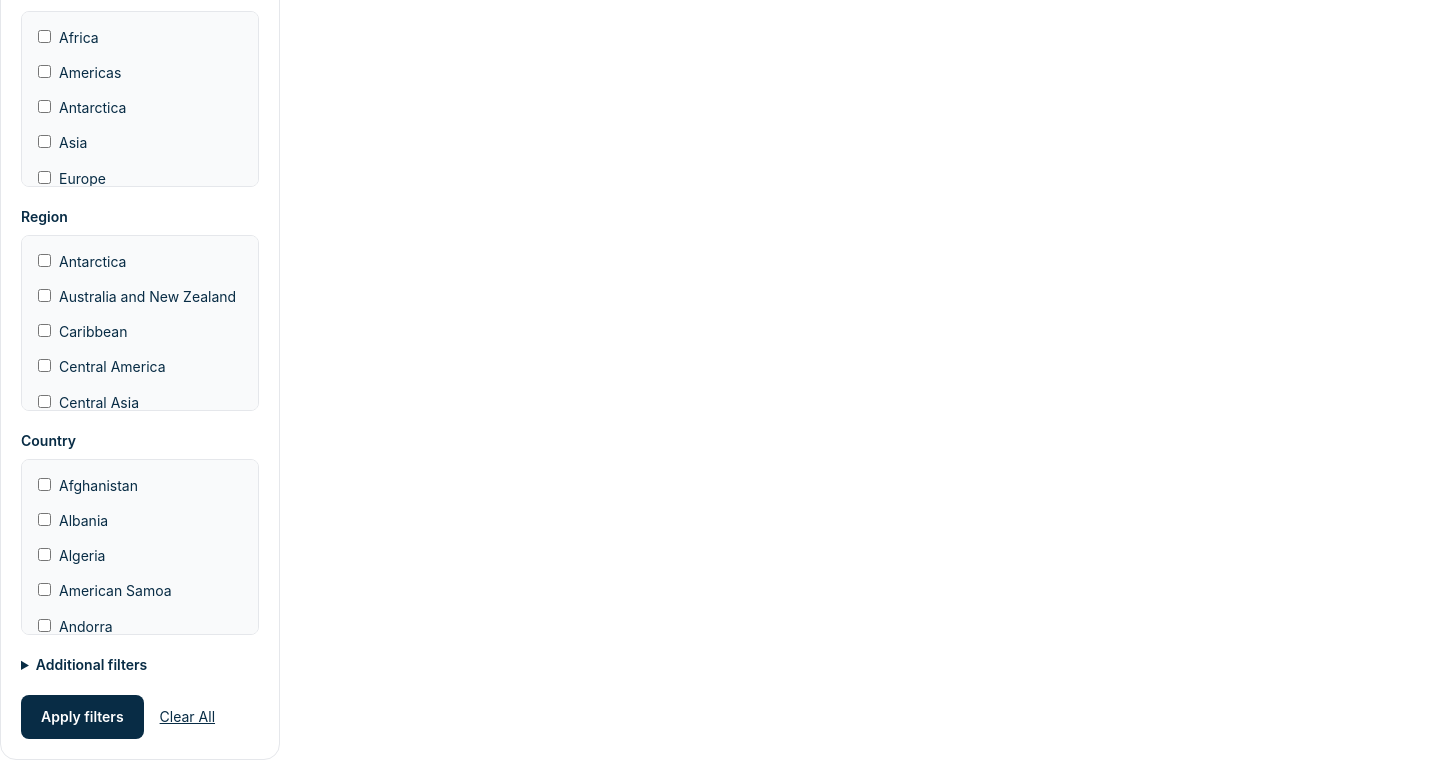
Test: cancels and ignores an older response only after a later submission
This screenshot has width=1440, height=760.
(page scrolled)
Click the heading "Additional filters" at (92, 664), box [36, 656, 147, 673]
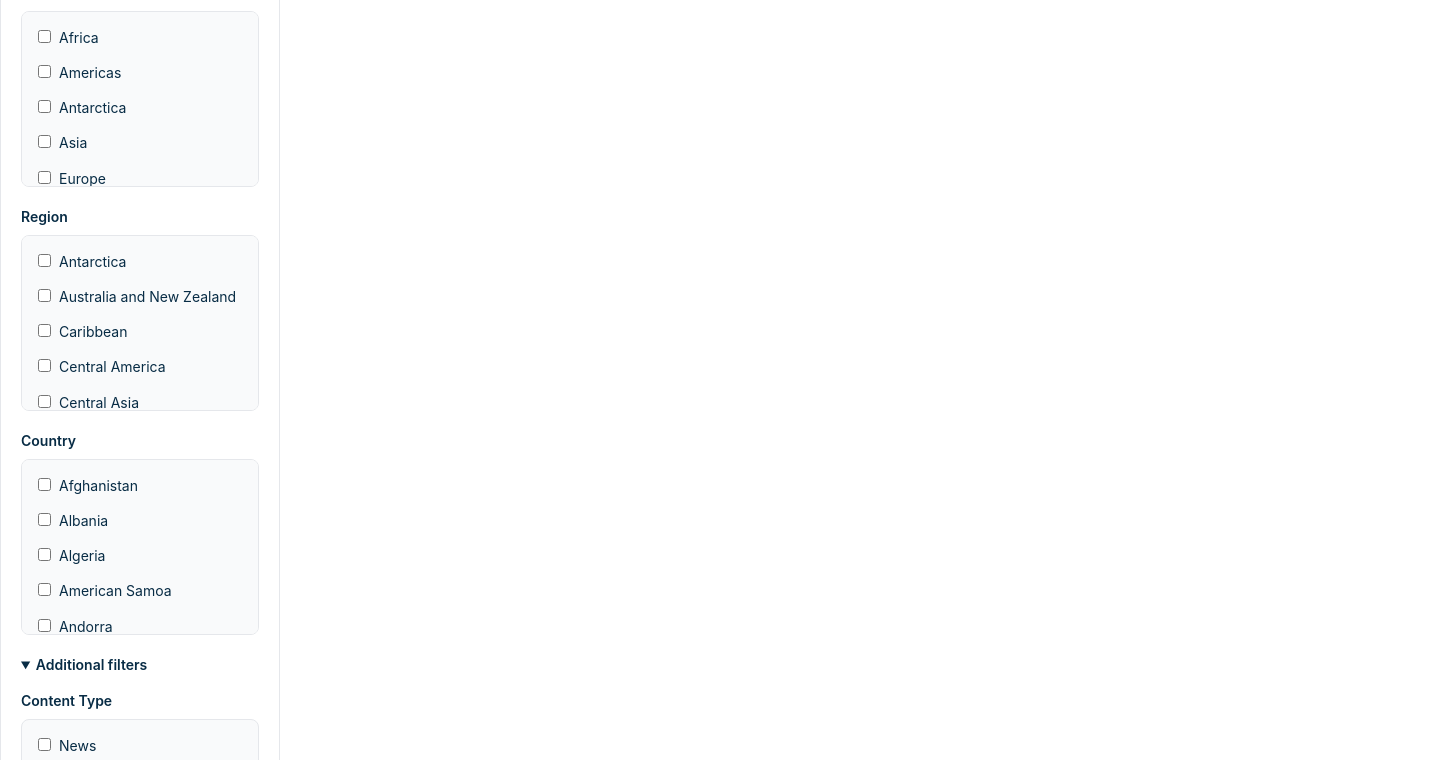
Click the checkbox labelled "News" at (44, 744), box [38, 738, 51, 751]
(page scrolled)
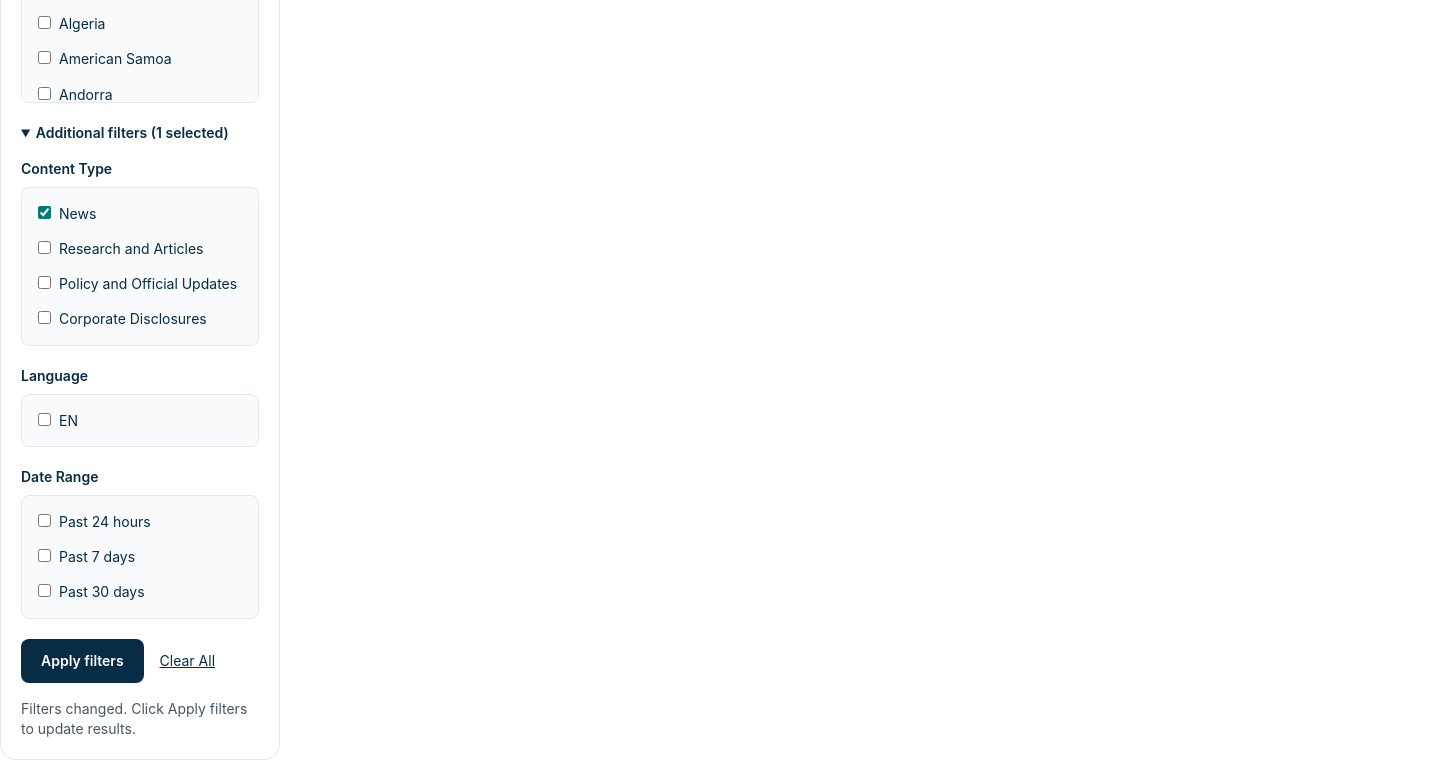
Click the button "Apply filters" at (82, 661), box [21, 639, 144, 683]
(page scrolled)
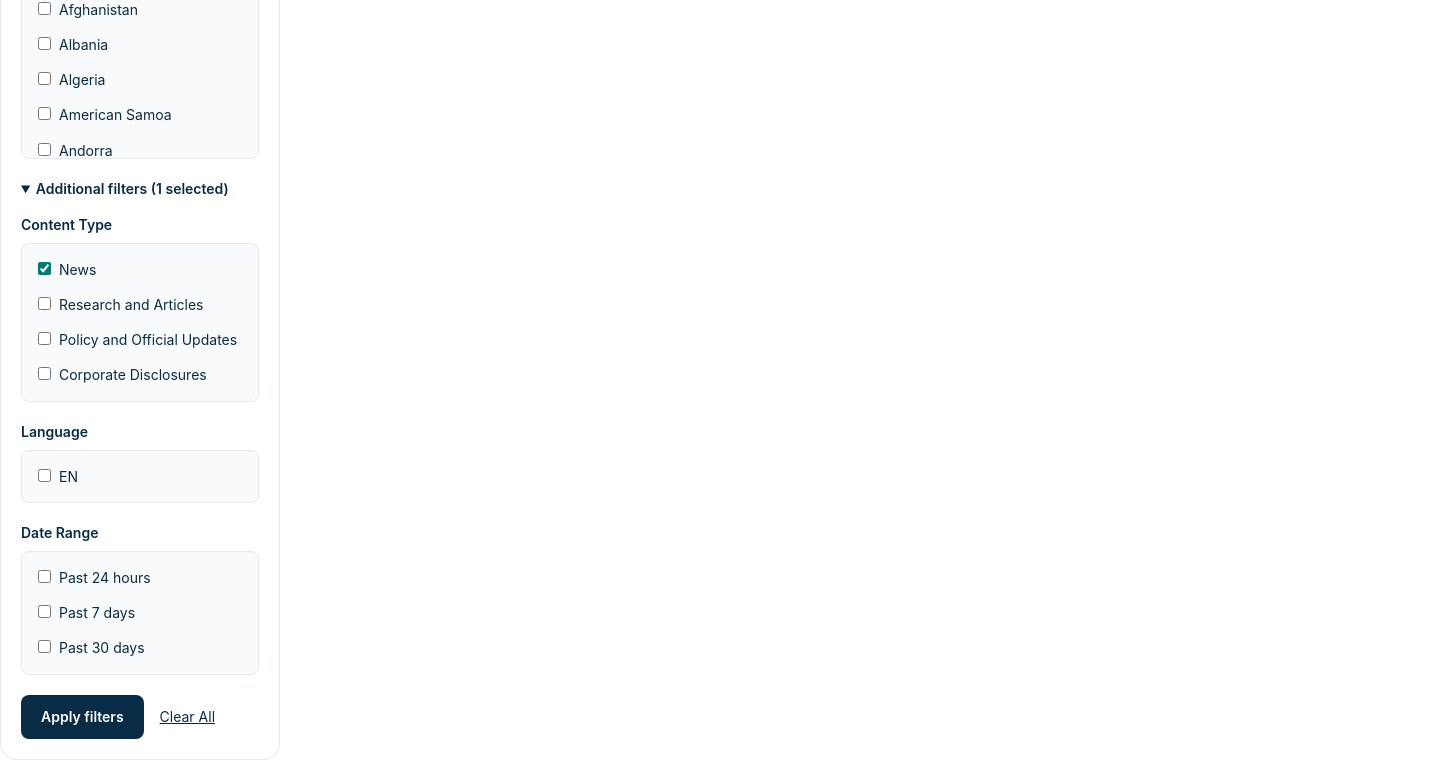
Click the checkbox labelled "EN" at (44, 475), box [38, 469, 51, 482]
Wait 1000 ms
(page scrolled)
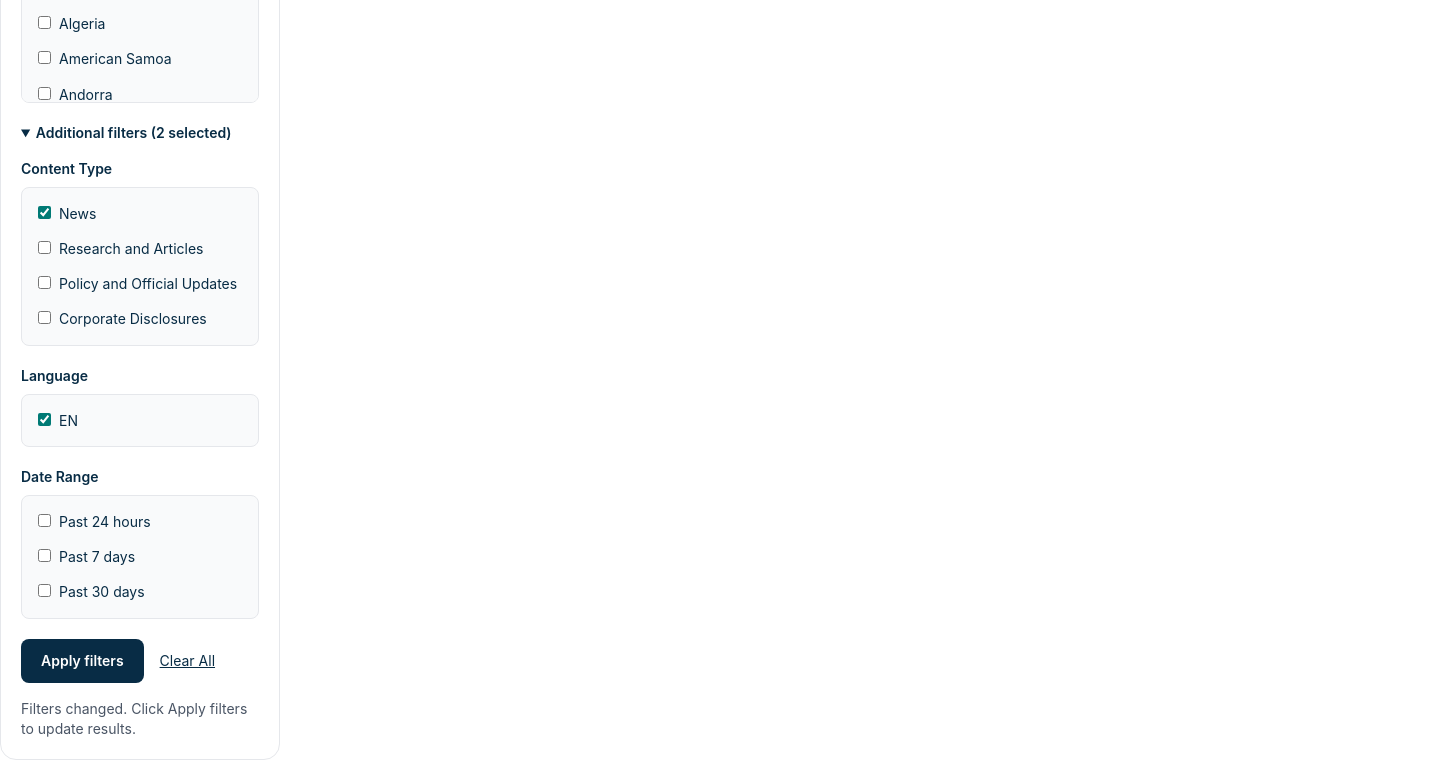
Click the button "Apply filters" at (82, 661), box [21, 639, 144, 683]
(page scrolled)
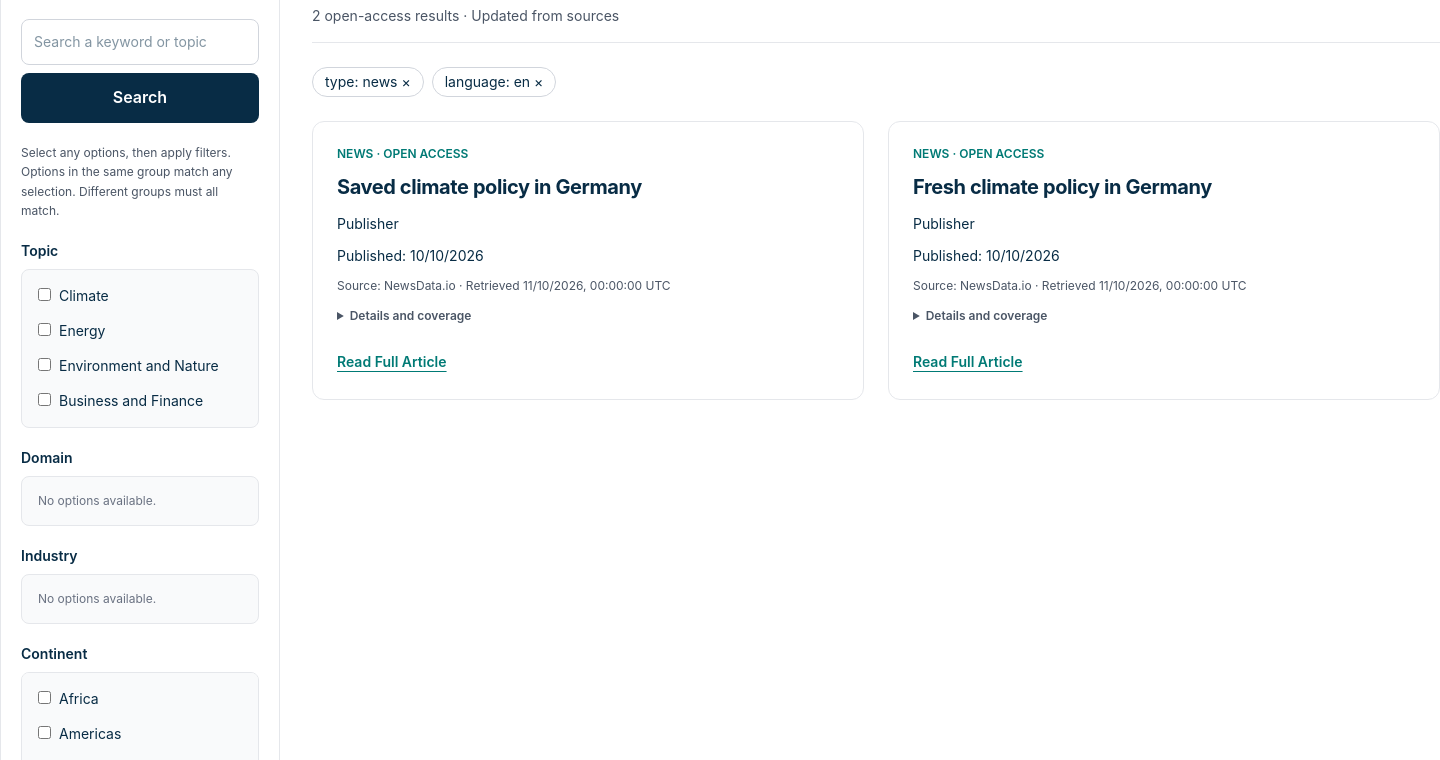
Check: the heading "Fresh climate policy in Germany" is shown, box [913, 175, 1212, 199]
